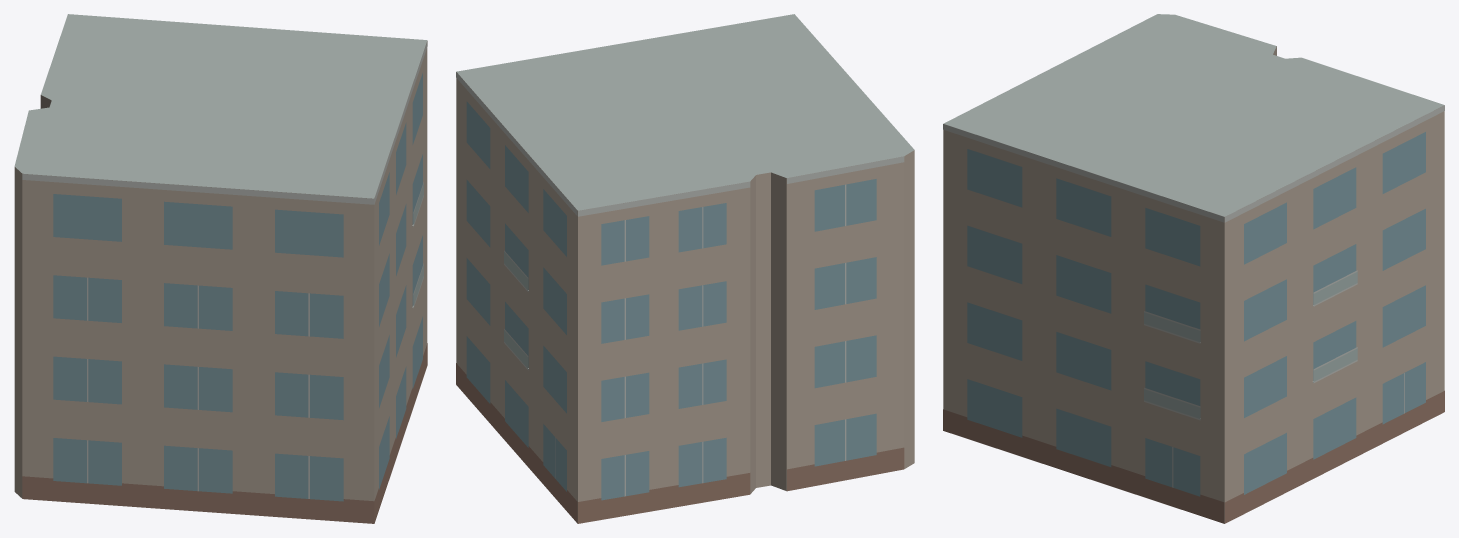
Rendered from survey-upis-32610243.glb.
The picture shows the model from 3 angles, left to right: view 1: azimuth 30°, elevation 25°; view 2: azimuth 150°, elevation 25°; view 3: azimuth 270°, elevation 25°; orthographic projection. The views are drawn at different scales.
Parts seen in each view (by area): view 1: survey-upis-32610243.tmp; view 2: survey-upis-32610243.tmp; view 3: survey-upis-32610243.tmp.
Part boxes in pixels (x1=…): survey-upis-32610243.tmp: x1=14, y1=14, x2=427, y2=523; survey-upis-32610243.tmp: x1=456, y1=14, x2=914, y2=523; survey-upis-32610243.tmp: x1=943, y1=14, x2=1444, y2=523.
Size of the model in its own units: 18.16 by 12.8 by 18.97.
